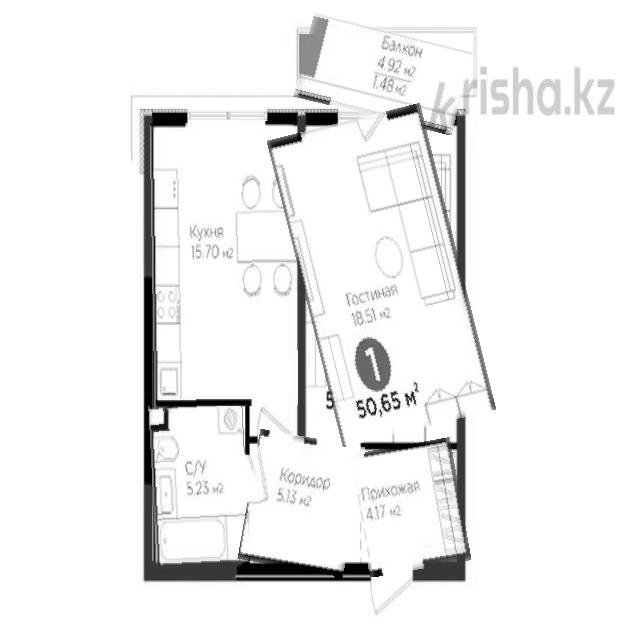balcony: (297, 21, 468, 126)
bathroom: (149, 402, 248, 569)
hallway: (243, 433, 360, 573), (353, 441, 466, 574)
kitchen: (149, 122, 297, 406)
living_room: (285, 110, 479, 440)
